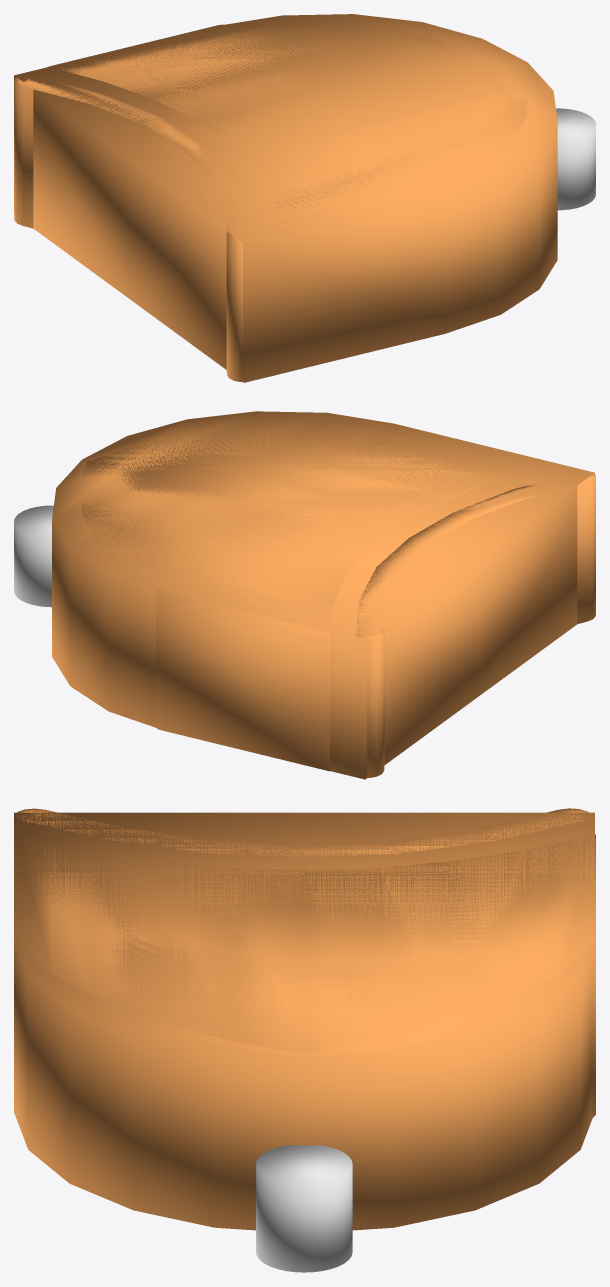
Rendered from NAND.glb.
3 renders of one model, top to bottom at view 1: azimuth 30°, elevation 25°; view 2: azimuth 150°, elevation 25°; view 3: azimuth 270°, elevation 25°, orthographic. The views are drawn at different scales.
Parts seen in each view (by area): view 1: 2, 7, Cot2; view 2: 2, 7, Cot2; view 3: 2, 7, Cot2.
Part boxes in pixels (bbox=[...]): 2: bbox=[14, 14, 557, 382]; 7: bbox=[14, 22, 527, 382]; Cot2: bbox=[556, 108, 595, 210]; 2: bbox=[52, 411, 594, 779]; 7: bbox=[81, 420, 595, 777]; Cot2: bbox=[14, 505, 53, 607]; 2: bbox=[14, 812, 594, 1230]; 7: bbox=[15, 808, 595, 1117]; Cot2: bbox=[256, 1145, 352, 1272].
Bounding box in the file's own units: 3.53 × 1 × 3.01.
